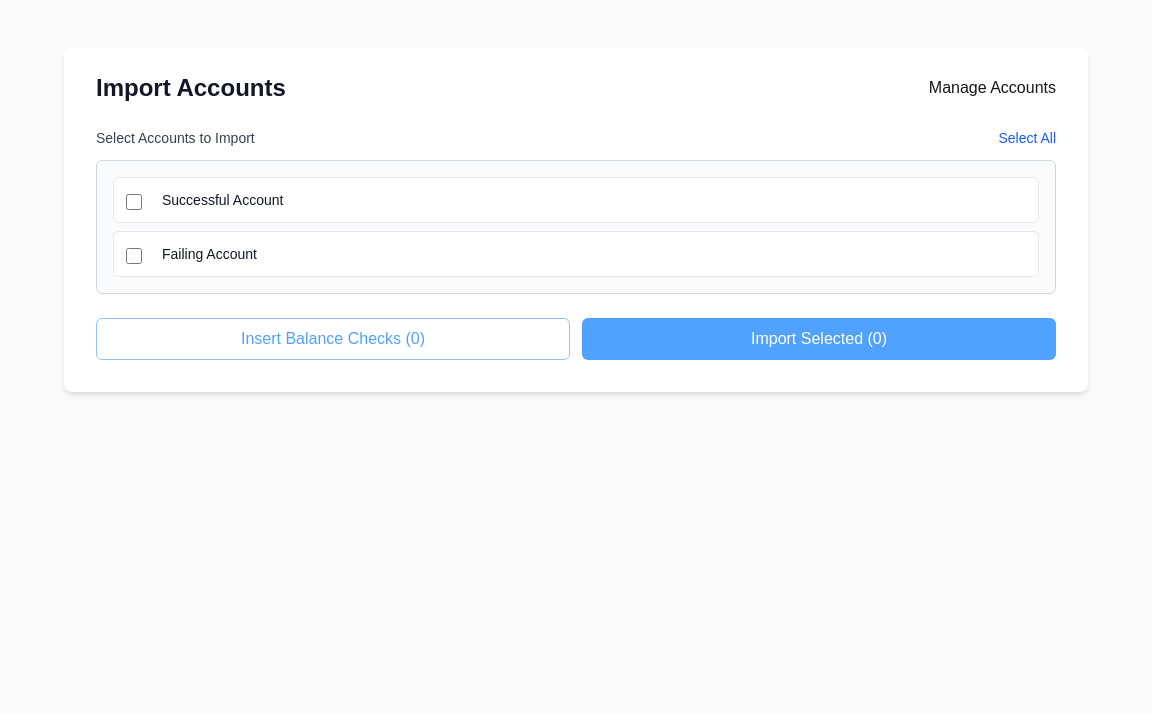
Scenario: ImportUI - Error Handling › should show a completed import in the pending list while another import later errors
What coordinates should you click on to do the following:
click the checkbox labelled "Successful Account"
I would click on:
 (134, 202)
Its box is [126,194,142,210].
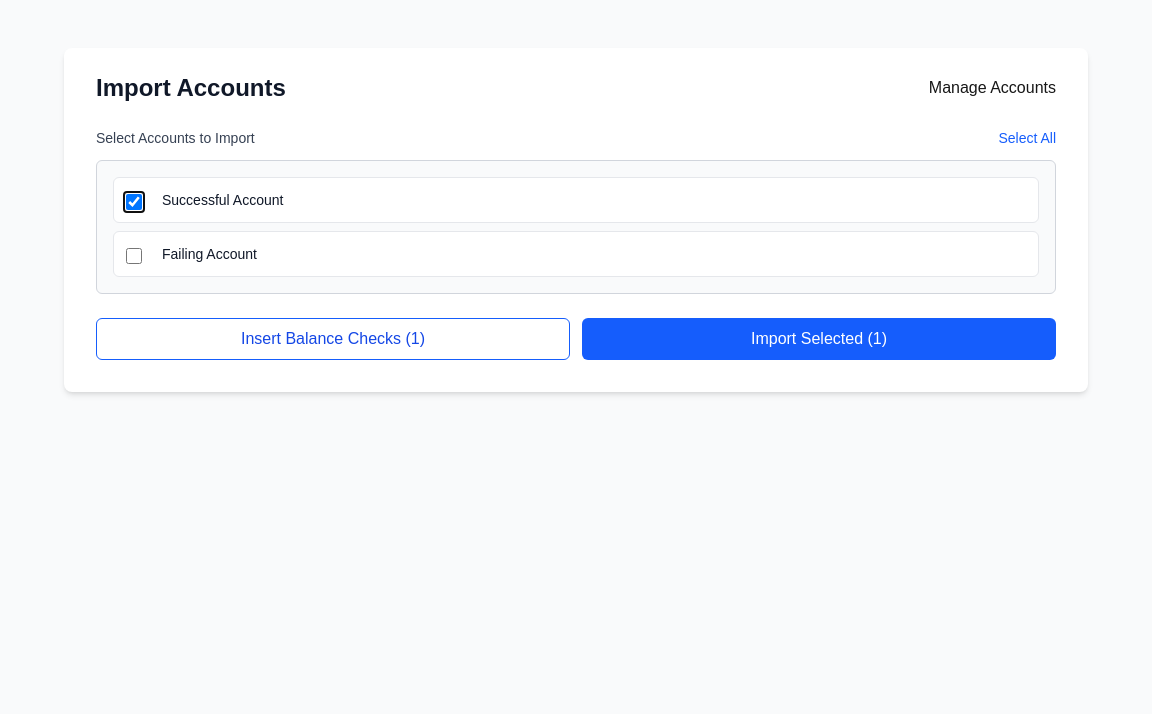
What coordinates should you click on to do the following:
click the checkbox labelled "Failing Account"
I would click on:
 (134, 256)
Its box is [126,248,142,264].
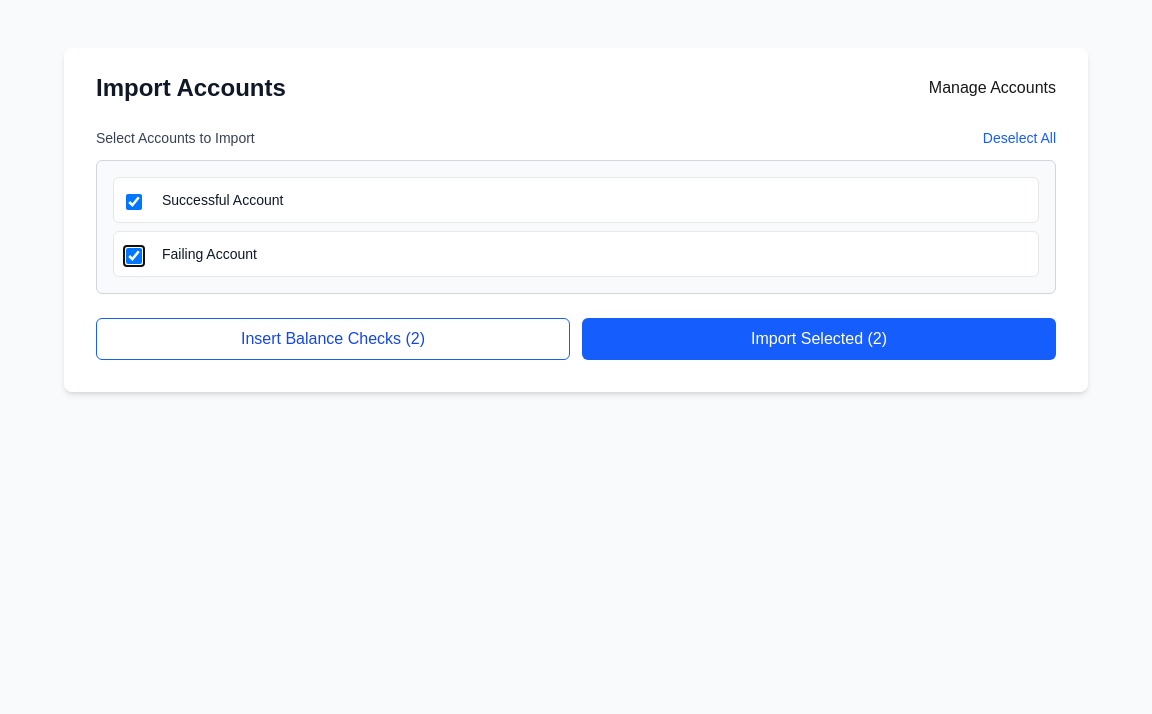
What coordinates should you click on to do the following:
click the button "Import Selected (2)"
I would click on:
 (819, 339)
Its box is [582,318,1056,360].
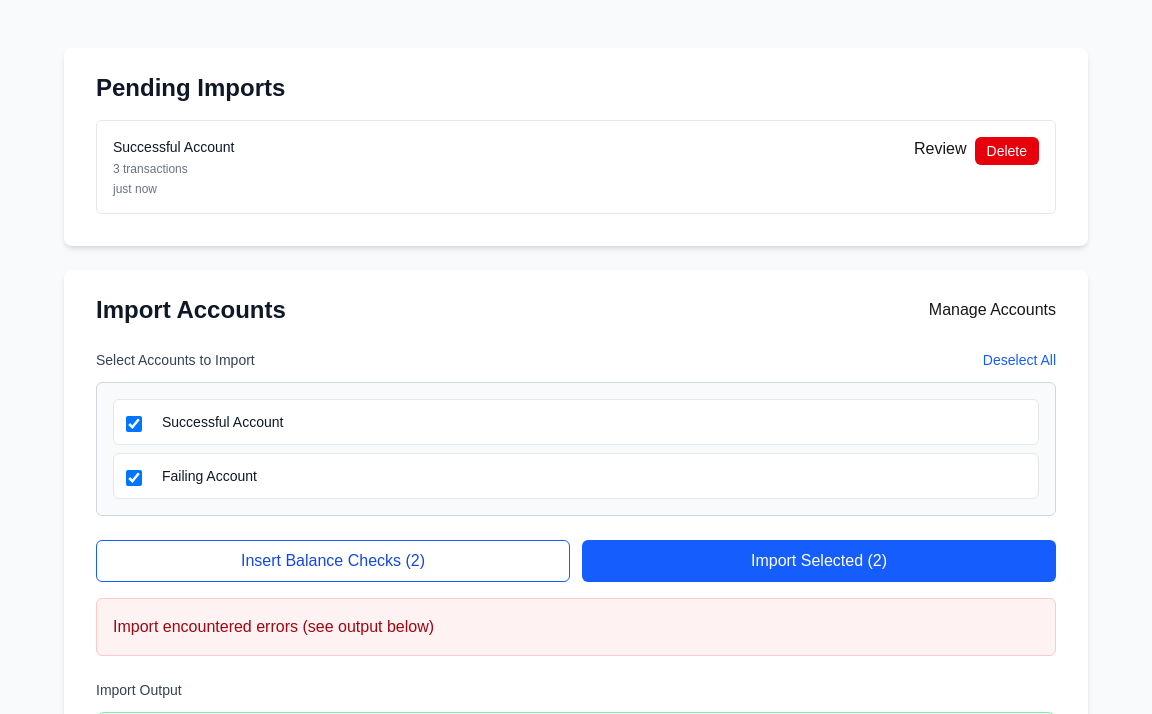
Check: the heading "Pending Imports" is shown, box [96,74,285,101]
Check: the text "3 transactions" is shown, box [113,162,188,176]
Check: the text "Import encountered errors (see output below)" is shown, box [96,598,1056,656]
